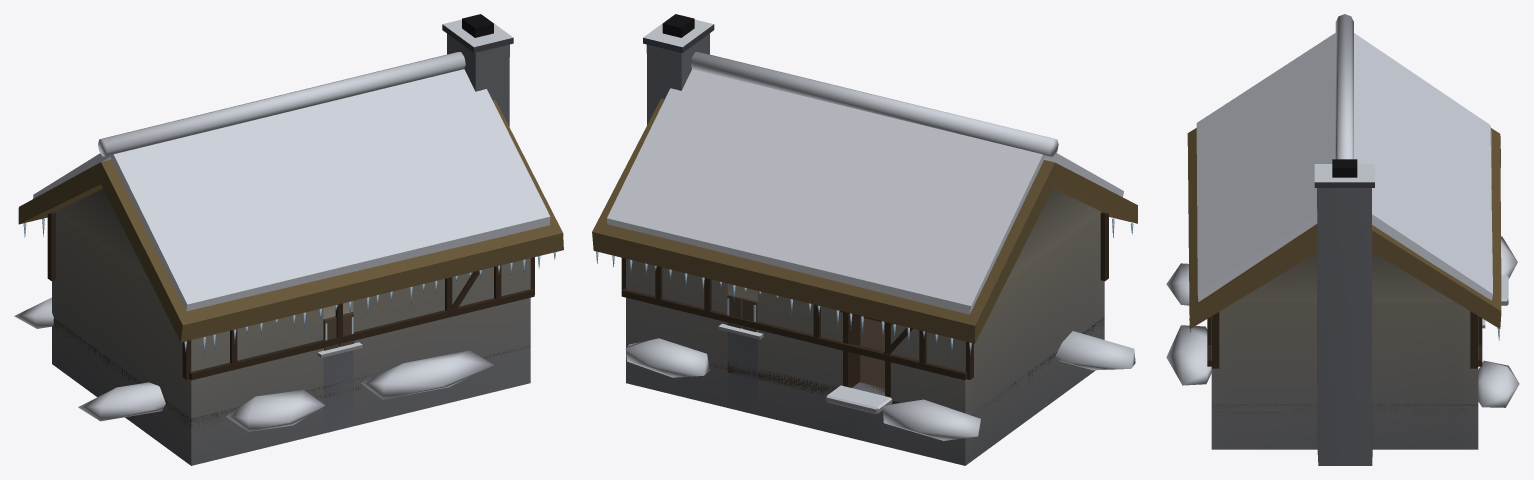
File: cottage_shell.glb
The picture shows the model from 3 angles, left to right: view 1: azimuth 30°, elevation 25°; view 2: azimuth 150°, elevation 25°; view 3: azimuth 270°, elevation 25°; orthographic projection. The views are drawn at different scales.
Visible parts, largest first — view 1: cottage_shell; view 2: cottage_shell; view 3: cottage_shell.
Boxes of the visible parts, <box> form: cottage_shell: <box>14,14,563,465</box>; cottage_shell: <box>592,14,1137,465</box>; cottage_shell: <box>1166,14,1519,465</box>.
Size of what is drawn, in the model's own units: 11.83 by 7.79 by 8.48.
